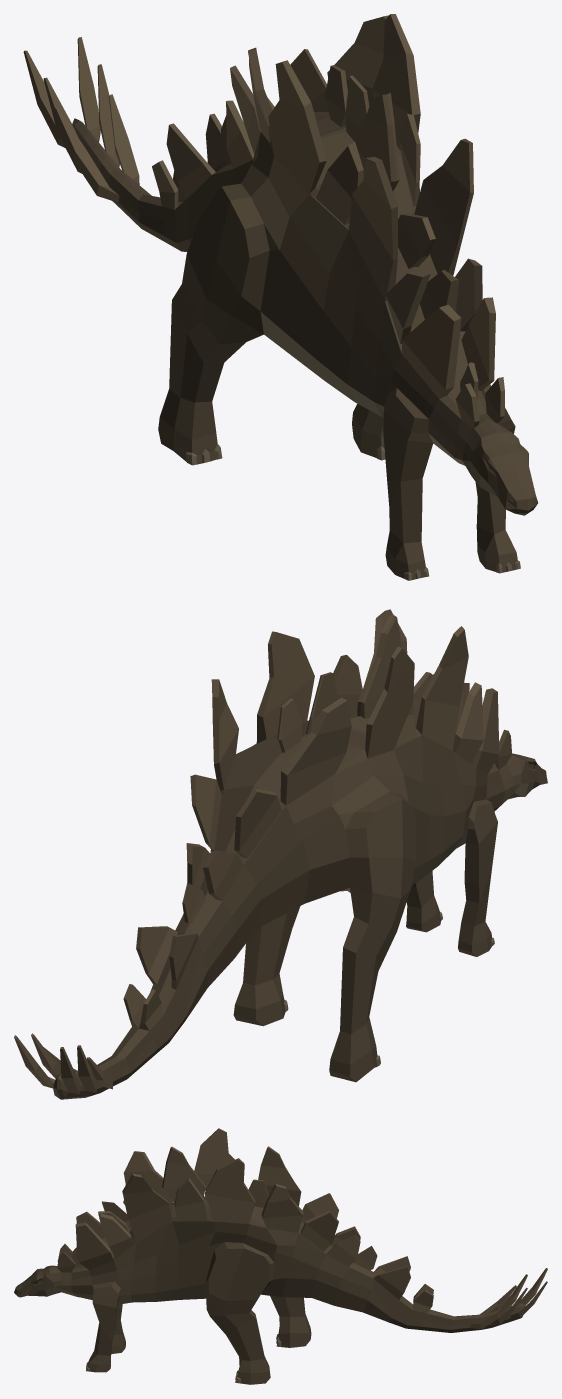
The model's file is stegosaurus.glb.
3 views of the same model, one above another, from view 1: azimuth 30°, elevation 25°; view 2: azimuth 150°, elevation 25°; view 3: azimuth 270°, elevation 25° (orthographic). The views are drawn at different scales.
Visible parts, largest first — view 1: Stegosaurus_Cylinder; view 2: Stegosaurus_Cylinder; view 3: Stegosaurus_Cylinder.
Part boxes in pixels (x1,y1,x2,y2): Stegosaurus_Cylinder: [23, 14, 538, 580]; Stegosaurus_Cylinder: [14, 609, 547, 1099]; Stegosaurus_Cylinder: [14, 1128, 547, 1384].
Size of the model in its own units: 5.07 by 10.48 by 22.95.
